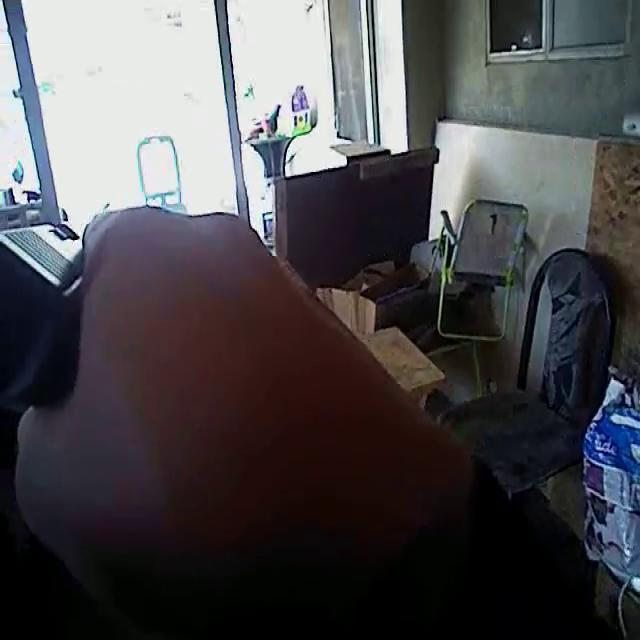gun: (0, 196, 129, 462)
